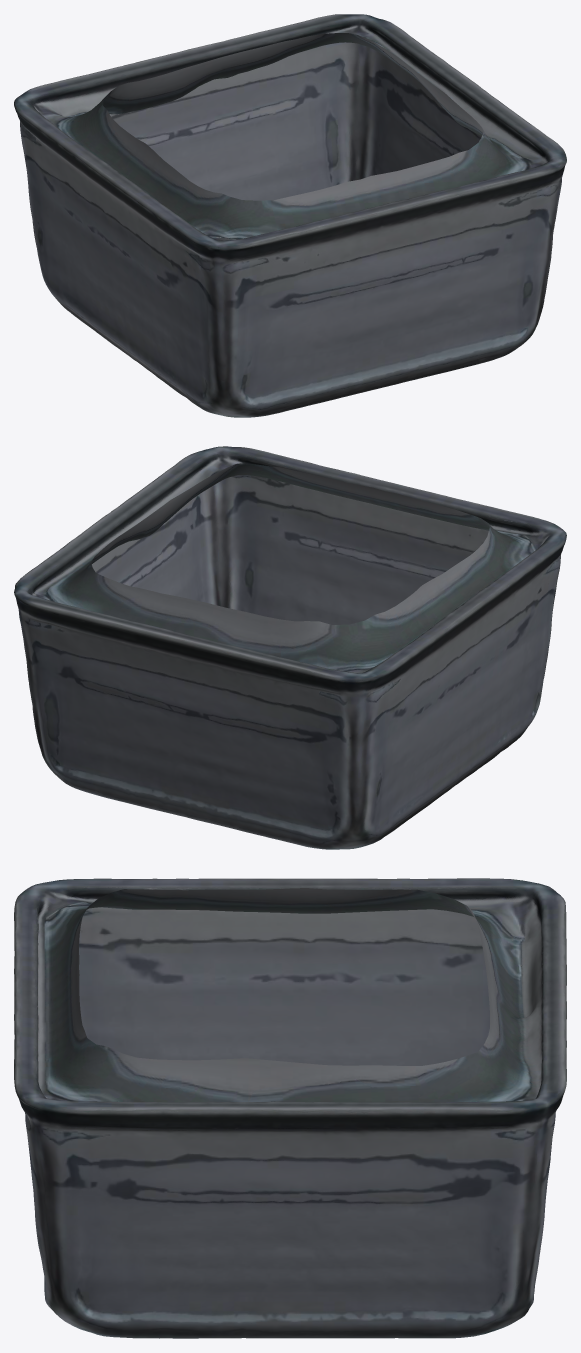
File: 98eb01aee41e_a_square_shaped_gla.obj
3 renders of one model, top to bottom at view 1: azimuth 30°, elevation 25°; view 2: azimuth 150°, elevation 25°; view 3: azimuth 270°, elevation 25°, orthographic. The views are drawn at different scales.
Parts seen in each view (by area): view 1: high_poly; view 2: high_poly; view 3: high_poly.
Part boxes in pixels (box(x1,y1,x2,y2)): high_poly: box(14, 14, 566, 417); high_poly: box(14, 446, 566, 849); high_poly: box(14, 878, 566, 1338).
Bounding box in the file's own units: 0.9998 × 0.5574 × 1.
Materials: 1 (1 with a texture image).
